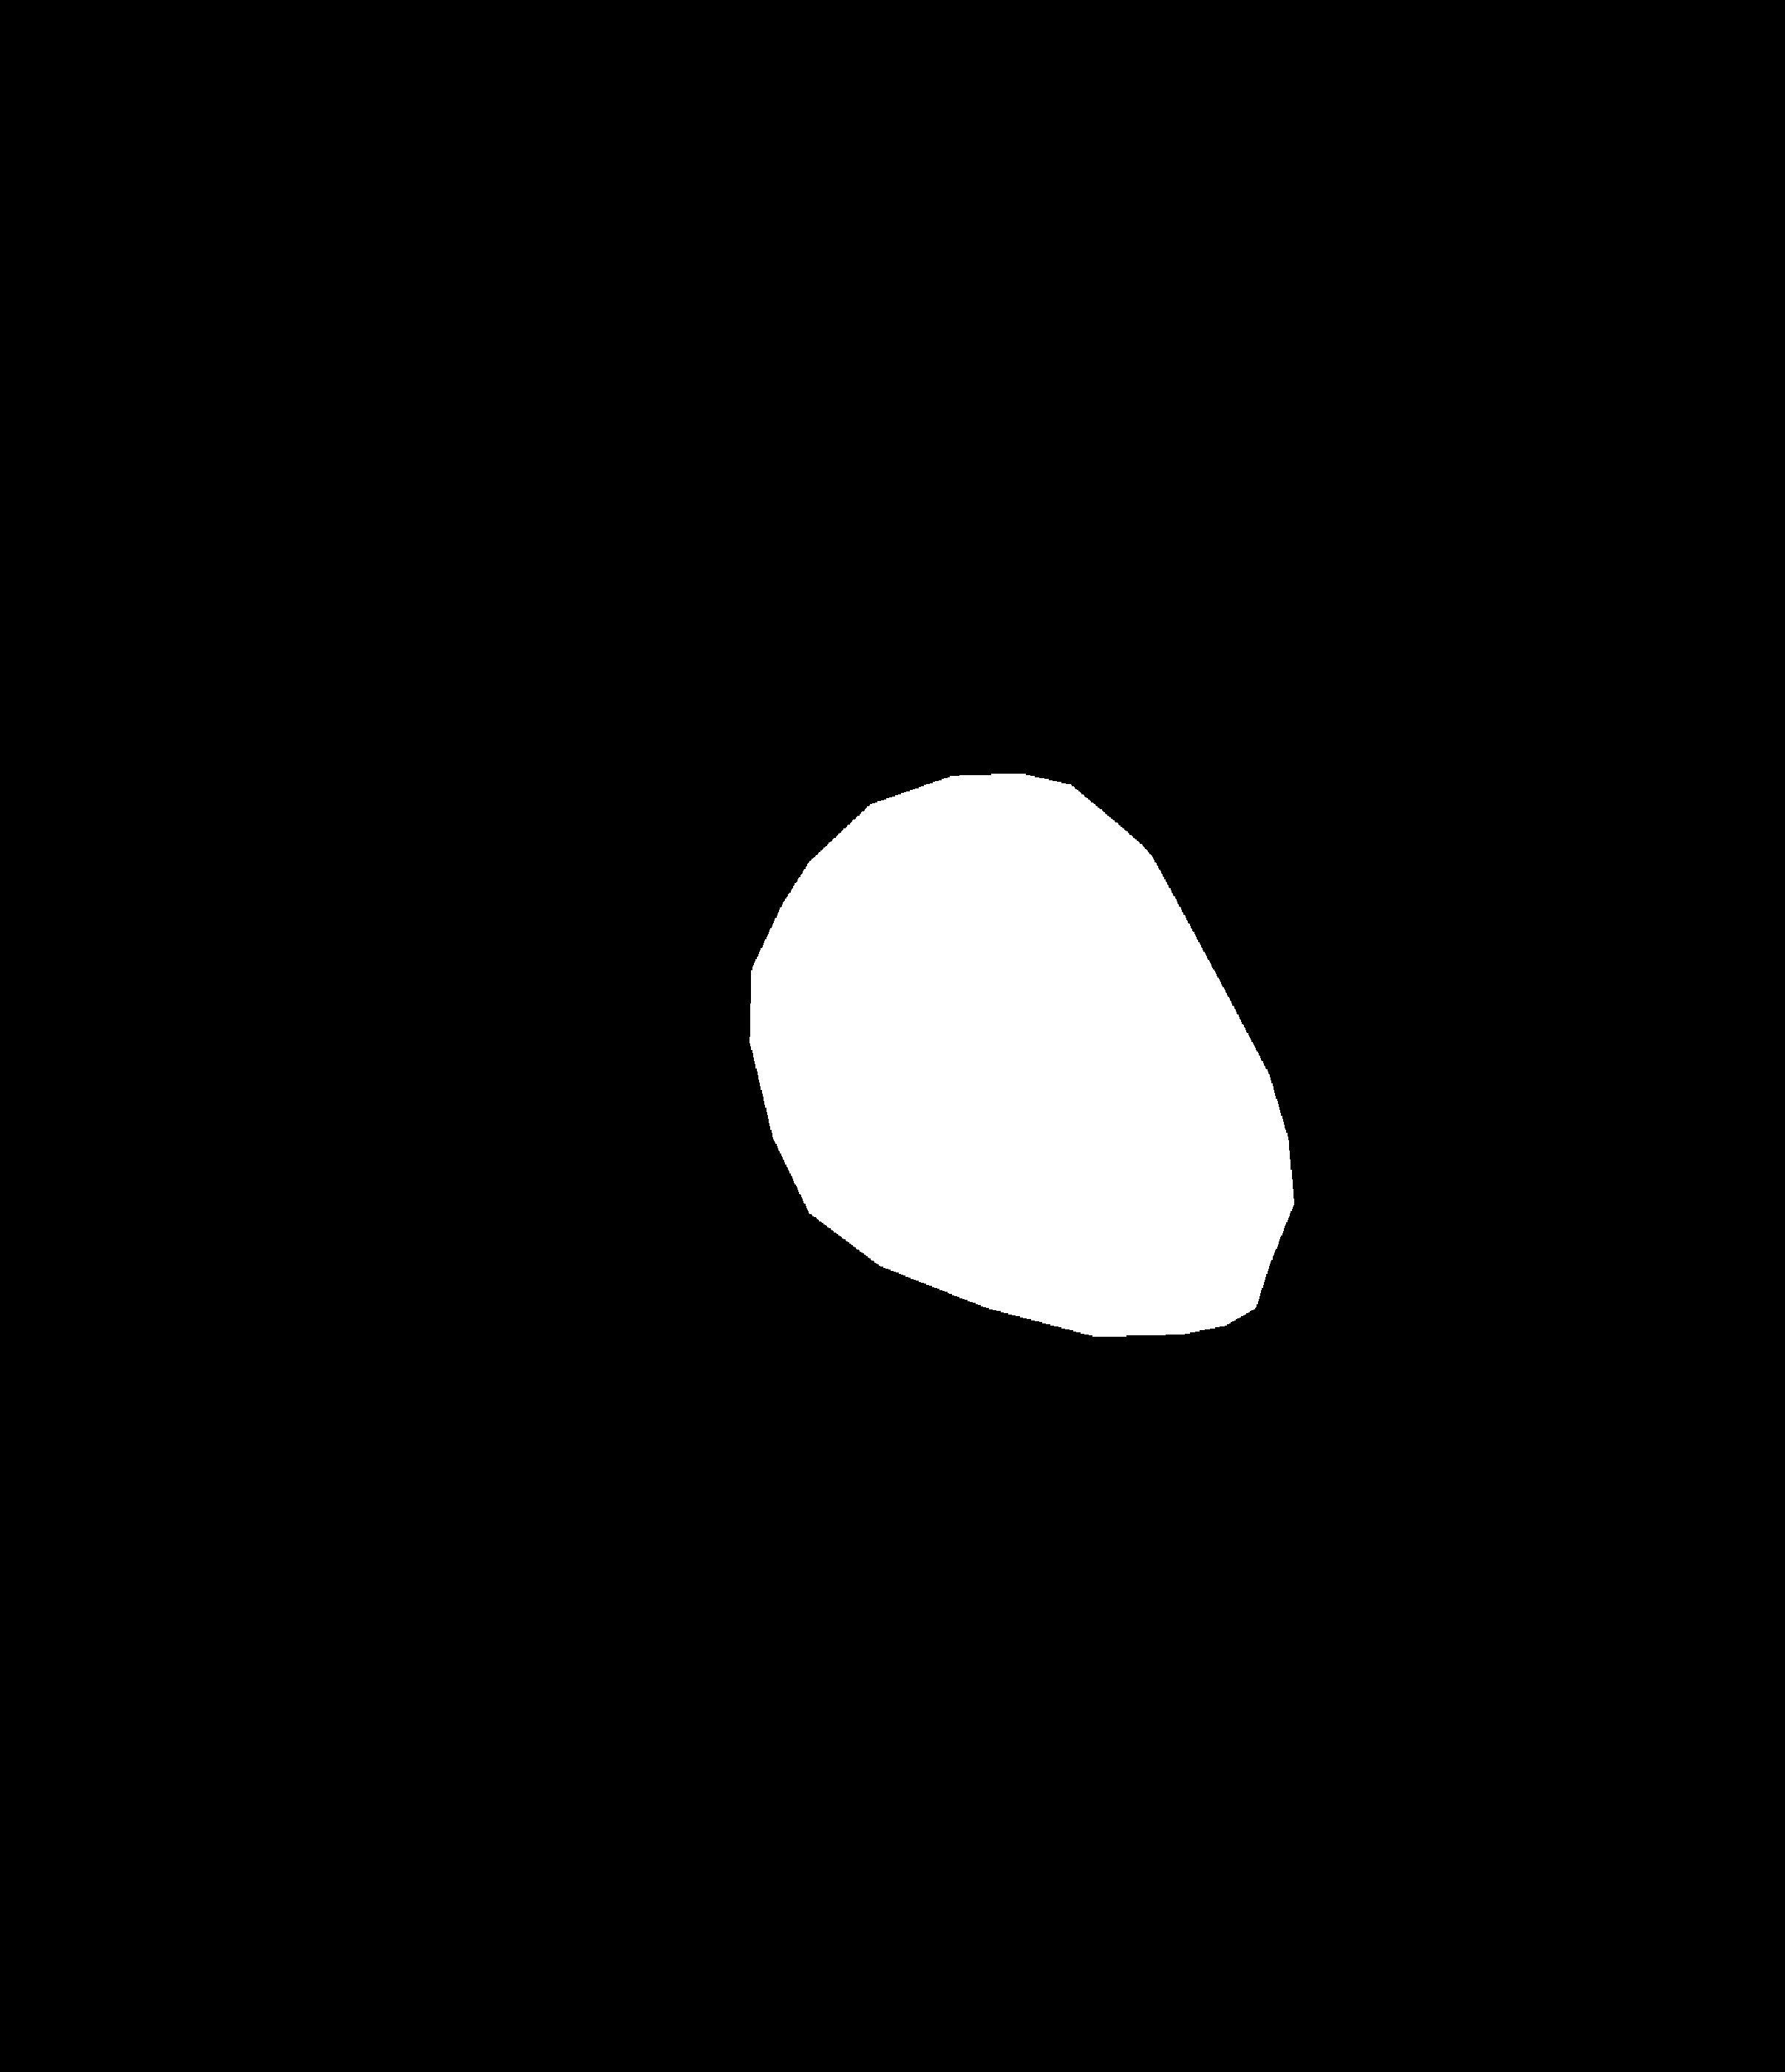heart: (742, 851, 1288, 1313)
left_lung: (234, 229, 851, 1480)
right_lung: (1018, 248, 1596, 1496)
